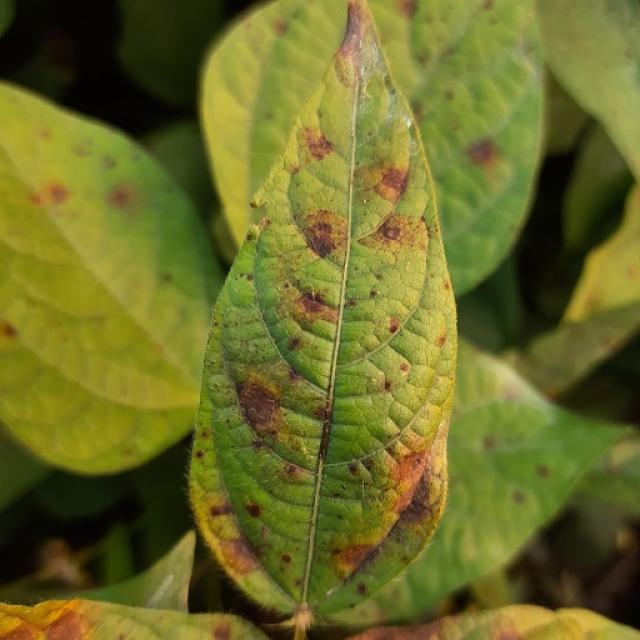Anthracnose: (385, 446, 433, 516), (359, 208, 426, 258), (237, 377, 281, 436), (359, 159, 410, 205), (302, 206, 343, 262), (217, 534, 262, 573), (292, 290, 338, 324), (334, 541, 378, 574), (359, 75, 389, 121), (46, 608, 89, 640), (301, 126, 335, 162), (315, 402, 334, 462), (30, 181, 68, 208), (466, 137, 499, 167), (108, 185, 133, 209), (393, 0, 417, 19), (213, 620, 232, 640), (272, 16, 290, 37), (492, 629, 520, 640), (244, 501, 262, 518), (210, 503, 229, 517), (2, 322, 18, 338), (73, 143, 90, 157), (535, 464, 550, 479), (313, 405, 327, 421), (388, 317, 401, 334), (246, 226, 259, 242), (287, 337, 301, 351), (512, 490, 526, 504), (483, 435, 496, 450), (102, 156, 117, 169), (435, 334, 447, 348), (443, 89, 455, 101), (625, 266, 637, 278), (348, 462, 359, 475), (261, 525, 270, 540), (250, 198, 261, 209), (280, 553, 292, 563), (400, 362, 410, 373), (160, 273, 172, 282), (286, 465, 296, 474), (384, 380, 392, 390), (369, 290, 378, 298), (195, 450, 204, 458), (443, 282, 450, 290), (283, 281, 290, 288)
Blackgram: (190, 0, 456, 636)
